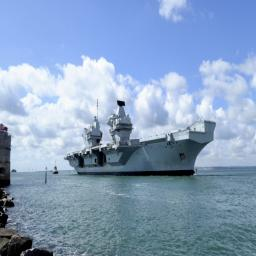Portanaves: (64, 85, 218, 179)
